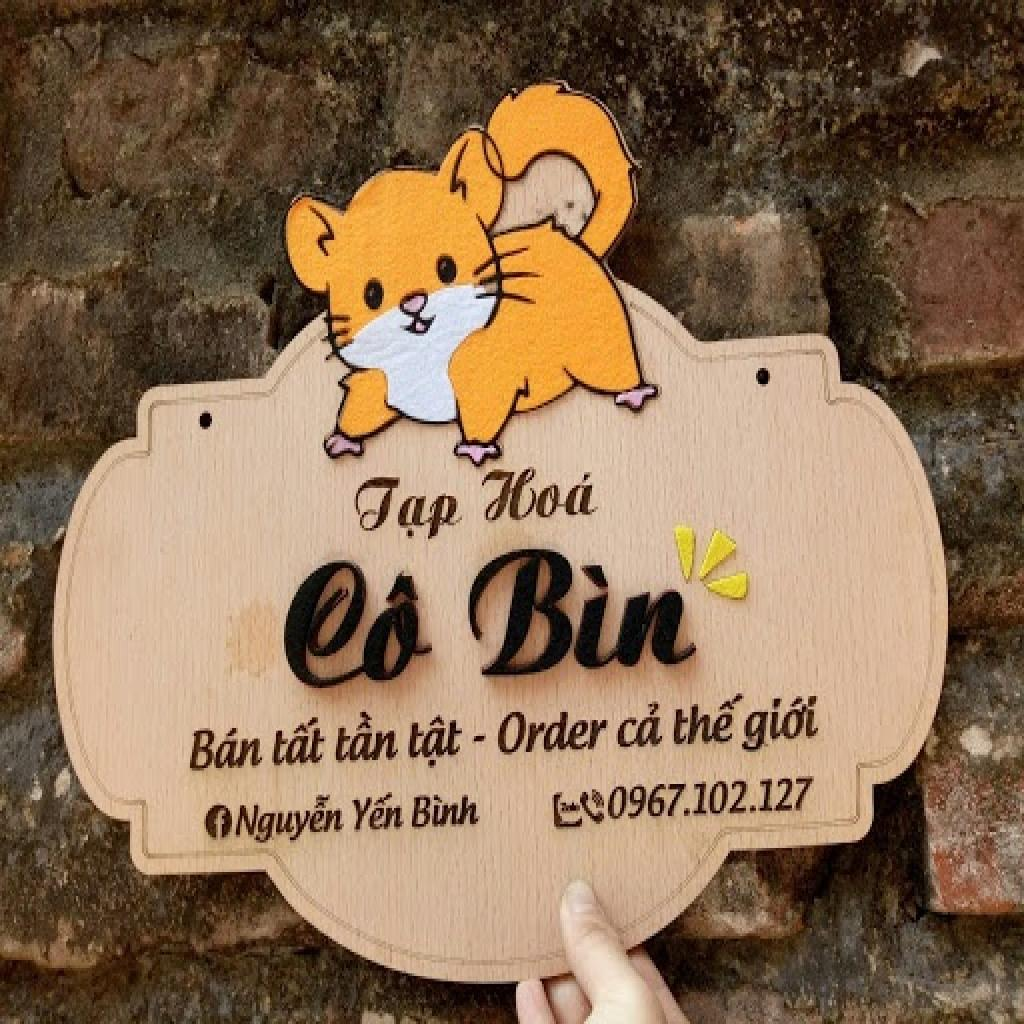text: (460, 541, 710, 688), (272, 549, 440, 696), (604, 771, 818, 829), (350, 472, 472, 552), (478, 464, 602, 525), (230, 792, 350, 851), (492, 706, 614, 762), (736, 688, 826, 760), (670, 688, 750, 752), (332, 706, 404, 770), (184, 723, 268, 776), (402, 712, 470, 776), (270, 712, 332, 773), (408, 786, 486, 834), (348, 789, 410, 840), (614, 696, 666, 755), (472, 730, 490, 746)
